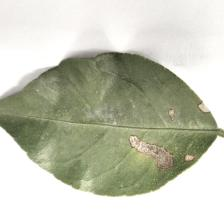canker: (73, 94, 207, 176)
